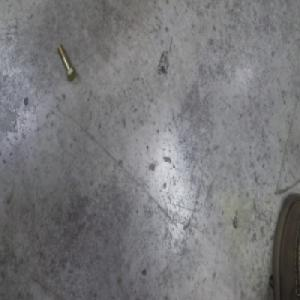Bolt: (57, 44, 77, 82)
